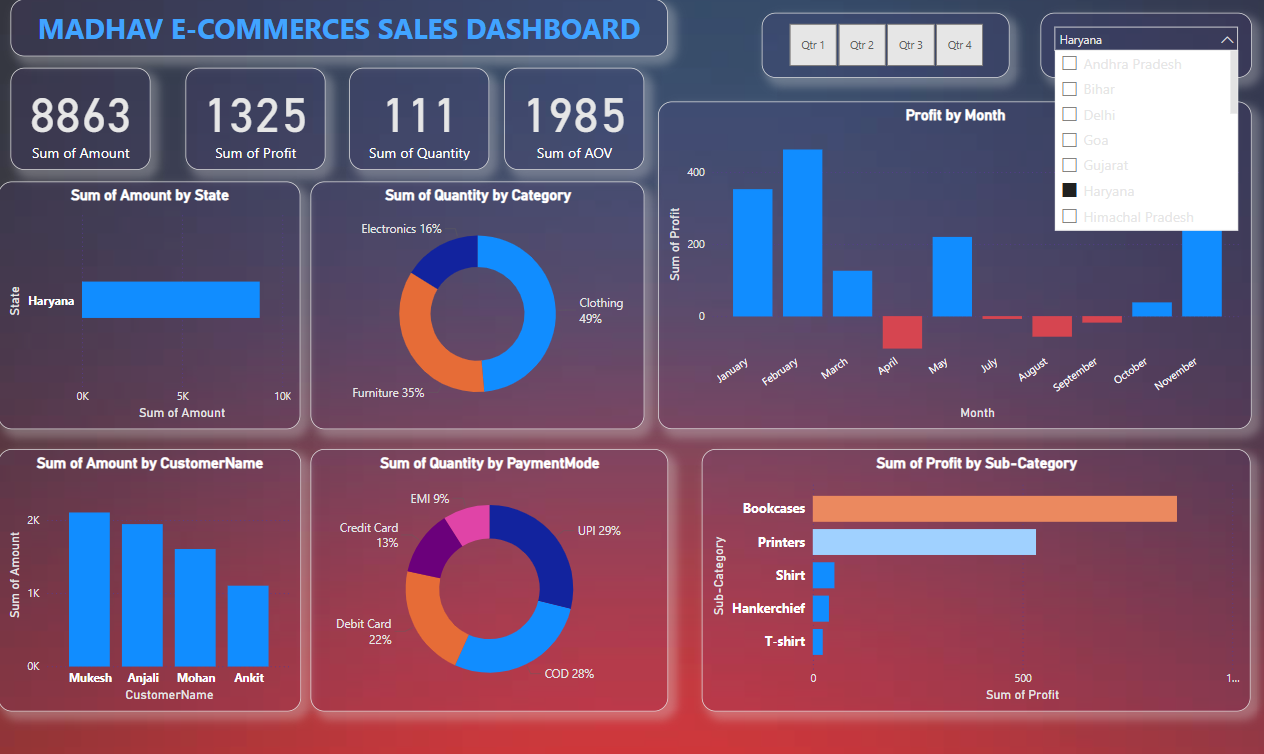

This screenshot's page, from the dashboard's own definition file:
{"tool":"powerbi","page":{"name":"Page 1","canvas":[1450,863],"ordinal":0},"visuals":[{"type":"columnChart","title":" Profit by Month","fields":{"Category":["Orders.Order Date.Variation.Date Hierarchy.Month"],"Y":["Details.Profit"]},"box":[754.3,117.1,678.6,374.3],"z":1000},{"type":"barChart","fields":{"Category":["Details.Sub-Category"],"Y":["Details.Profit"]},"box":[804.3,514.3,627.1,300],"z":2000},{"type":"donutChart","fields":{"Category":["Details.Category"],"Y":["Details.Quantity"]},"box":[357.1,208.6,381.4,282.9],"z":3000},{"type":"donutChart","fields":{"Y":["Details.Quantity"],"Category":["Details.PaymentMode"]},"box":[357.1,514.3,408.6,300],"z":4000},{"type":"card","fields":{"Values":["Details.Amount"]},"box":[14.3,78.6,160,117.1],"z":5000},{"type":"card","fields":{"Values":["Details.Profit"]},"box":[214.3,78.6,160,117.1],"z":6000},{"type":"card","fields":{"Values":["Details.Quantity"]},"box":[401.4,78.6,160,117.1],"z":7000},{"type":"card","fields":{"Values":["Details.AOV"]},"box":[578.6,78.6,160,117.1],"z":8000},{"type":"barChart","fields":{"Category":["Orders.State"],"Y":["Details.Amount"]},"box":[0,208.6,345.7,282.9],"z":9000},{"type":"columnChart","fields":{"Category":["Orders.CustomerName"],"Y":["Details.Amount"]},"box":[0,514,346,300],"z":10000},{"type":"textbox","box":[14.3,0,751.4,64.3],"z":10001},{"type":"slicer","fields":{"Values":["Orders.Order Date.Variation.Date Hierarchy.Quarter"]},"box":[872.9,15.7,282.9,74.3],"z":10002},{"type":"slicer","fields":{"Values":["Orders.State"]},"box":[1191.4,15.7,241.4,74.3],"z":10003}]}

Visuals, with their boxes in screenshot pixels (x1, y1, x2, y2), scaled from the page's 1450x863 canvas onto the 1264x754 screenshot:
" Profit by Month" columnChart: detection(658, 102, 1249, 429)
barChart - Details.Sub-Category x Details.Profit: detection(701, 449, 1248, 711)
donutChart - Details.Category x Details.Quantity: detection(311, 182, 644, 429)
donutChart - Details.Quantity x Details.PaymentMode: detection(311, 449, 667, 711)
card - Details.Amount: detection(12, 69, 152, 171)
card - Details.Profit: detection(187, 69, 326, 171)
card - Details.Quantity: detection(350, 69, 489, 171)
card - Details.AOV: detection(504, 69, 644, 171)
barChart - Orders.State x Details.Amount: detection(0, 182, 301, 429)
columnChart - Orders.CustomerName x Details.Amount: detection(0, 449, 302, 711)
textbox: detection(12, 0, 667, 56)
slicer - Orders.Order Date.Variation.Date Hierarchy.Quarter: detection(761, 14, 1008, 79)
slicer - Orders.State: detection(1039, 14, 1249, 79)
